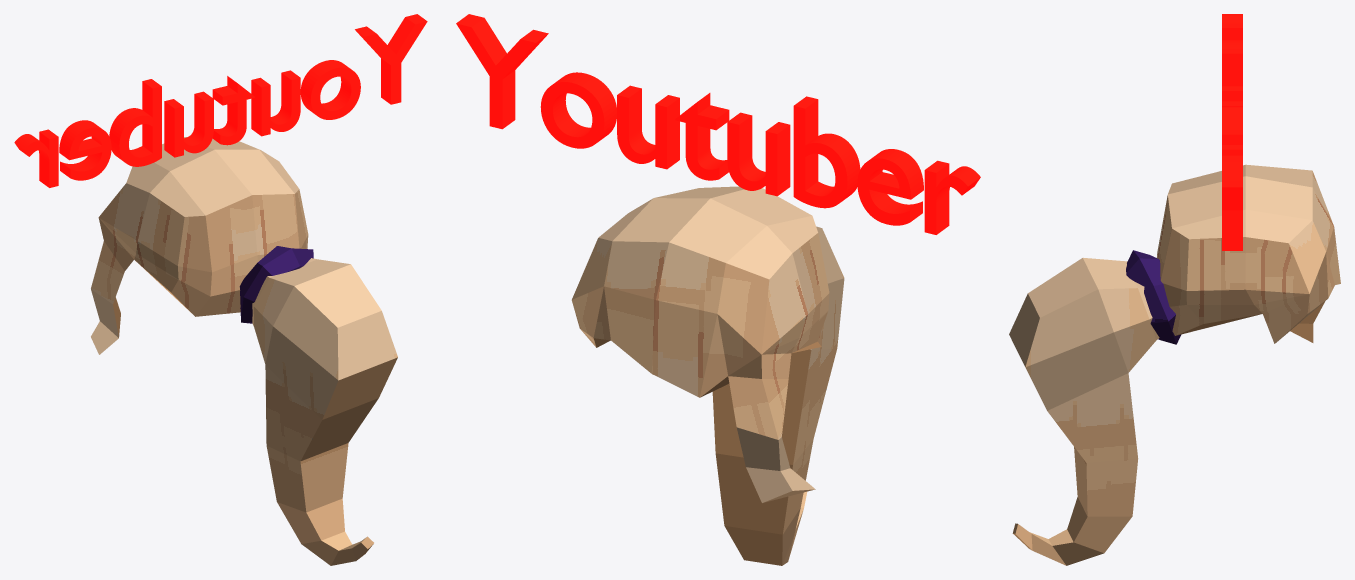
The model's file is Q386PXB5PY8XG_oldbutbetter.glb.
3 renders of one model, left to right at view 1: azimuth 30°, elevation 25°; view 2: azimuth 150°, elevation 25°; view 3: azimuth 270°, elevation 25°, orthographic. The views are drawn at different scales.
Parts seen in each view (by area): view 1: hair, テキスト; view 2: hair, テキスト; view 3: hair, テキスト.
Boxes of the visible parts, x1,y1,x2,y2 form: hair: (91, 137, 397, 565); テキスト: (14, 14, 427, 187); hair: (571, 186, 844, 565); テキスト: (456, 14, 980, 234); hair: (1009, 164, 1340, 565); テキスト: (1222, 14, 1242, 250).
Bounding box in the file's own units: 1.72 × 1.81 × 1.19.
Materials: 2 (1 with a texture image).
